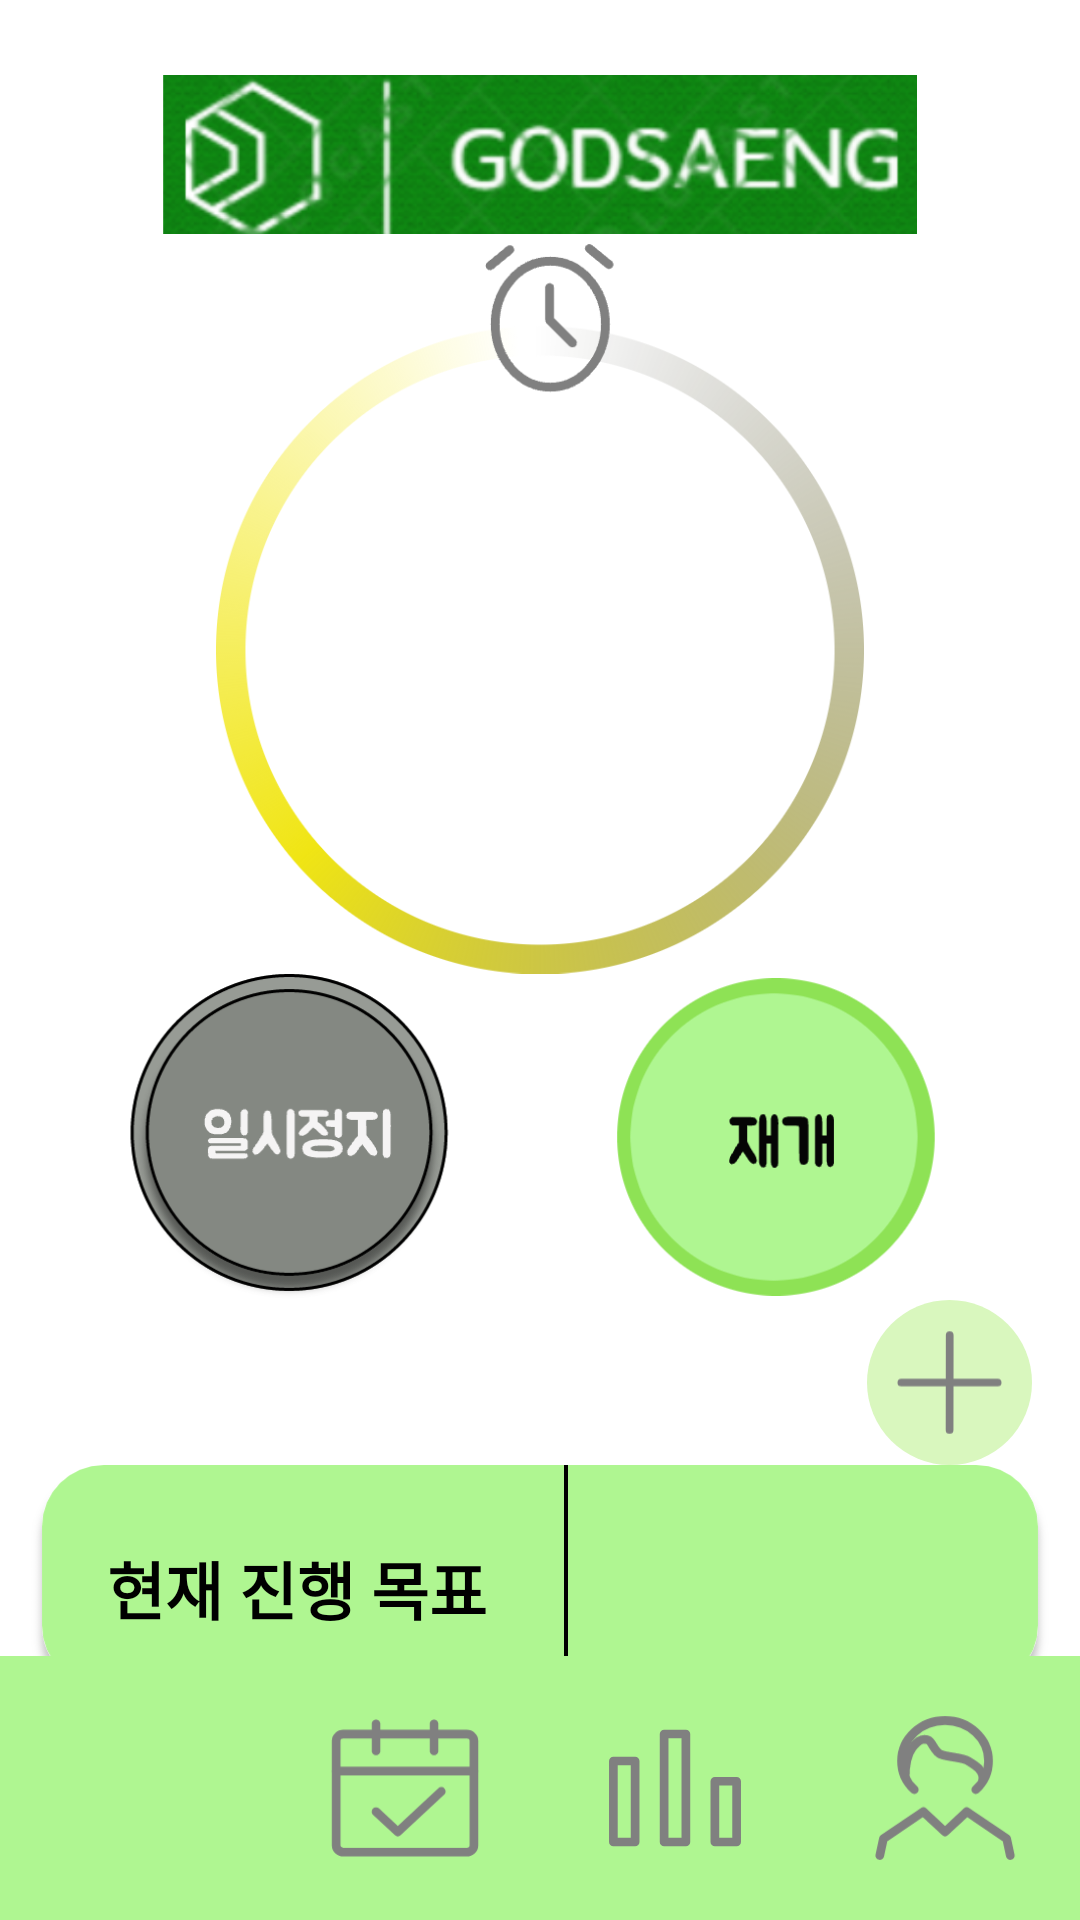

Screen size 1080 × 1920. Icon name, then its box in pixels as rect(x1, y1, x2, y2):
add: rect(867, 1300, 1032, 1465)
